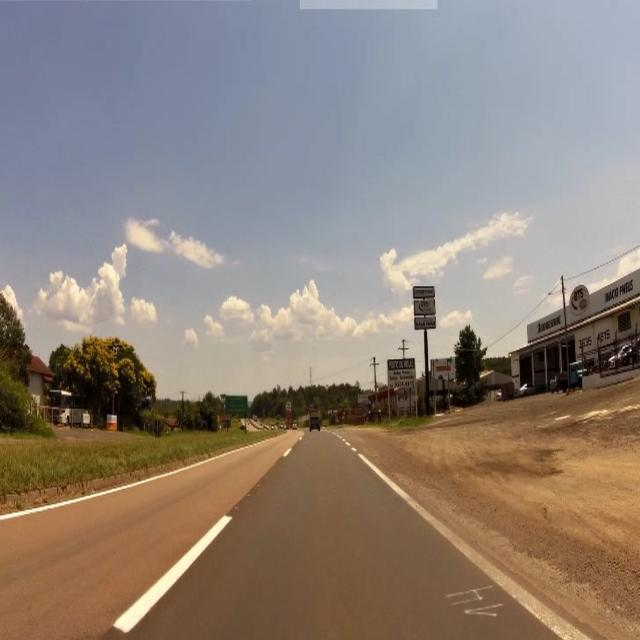I-4: (227, 393, 250, 415)
